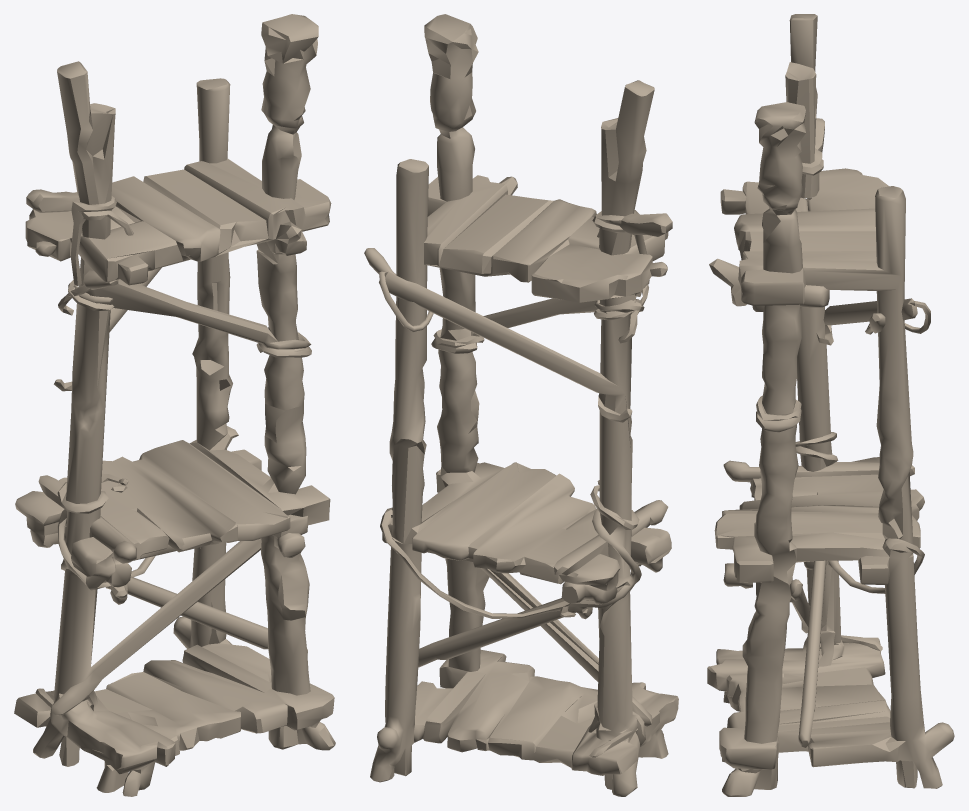
Rendered from kit_scaffold.glb.
The picture shows the model from 3 angles, left to right: view 1: azimuth 30°, elevation 25°; view 2: azimuth 150°, elevation 25°; view 3: azimuth 270°, elevation 25°; orthographic projection. The views are drawn at different scales.
Parts seen in each view (by area): view 1: scaffold; view 2: scaffold; view 3: scaffold.
Part boxes in pixels (x1,y1,x2,y2): scaffold: (14, 14, 335, 796); scaffold: (364, 14, 678, 796); scaffold: (707, 14, 954, 796).
Bounding box in the file's own units: 1.23 × 3 × 0.9863.
